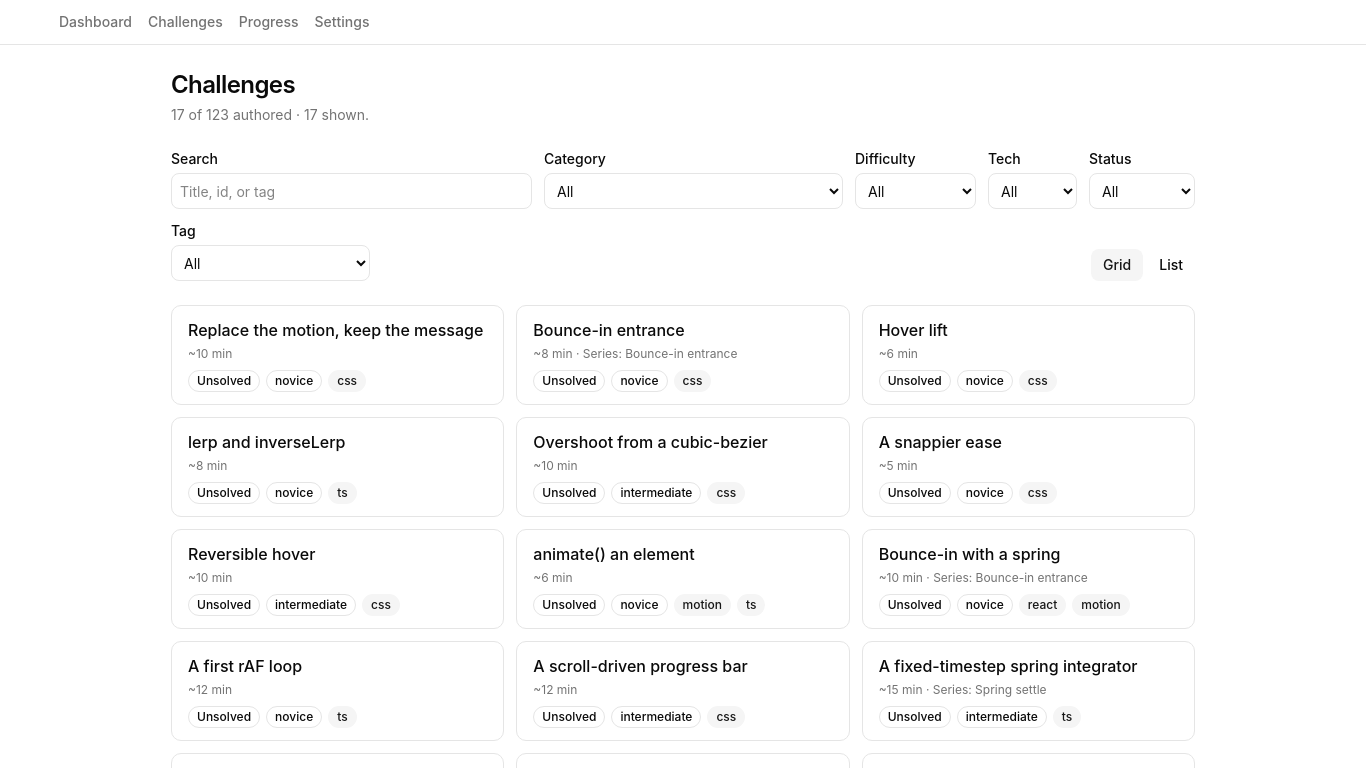
CatalogPage › changing a filter select updates the list and supports clearing
Expected: the link "Hover lift ~6 min Unsolved novice css" is shown, [862, 305, 1195, 405]
Select "expert" in the dropdown labelled "Difficulty". click: (916, 191)
box: [855, 173, 976, 209]
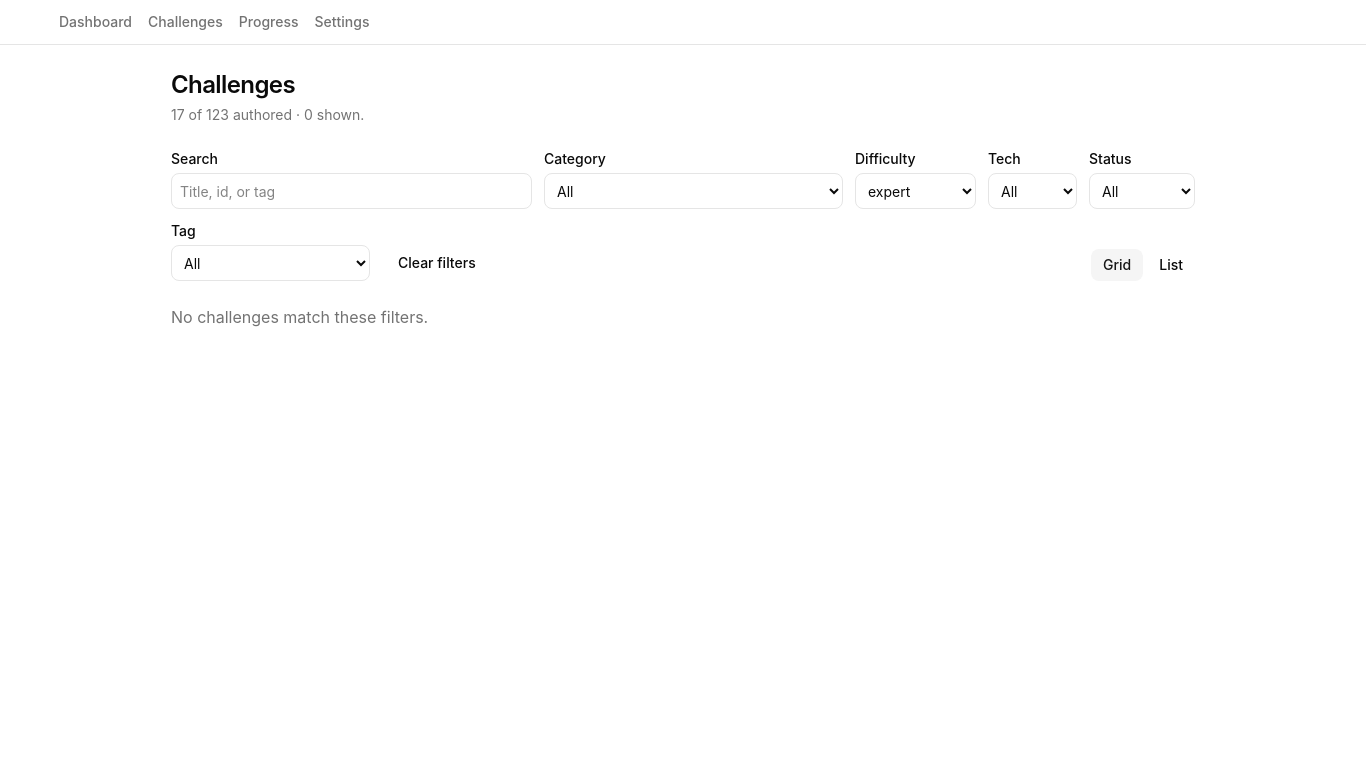
Now the link "Hover lift" is gone
Click the button "Clear filters". click: (437, 263)
box: [382, 245, 492, 281]
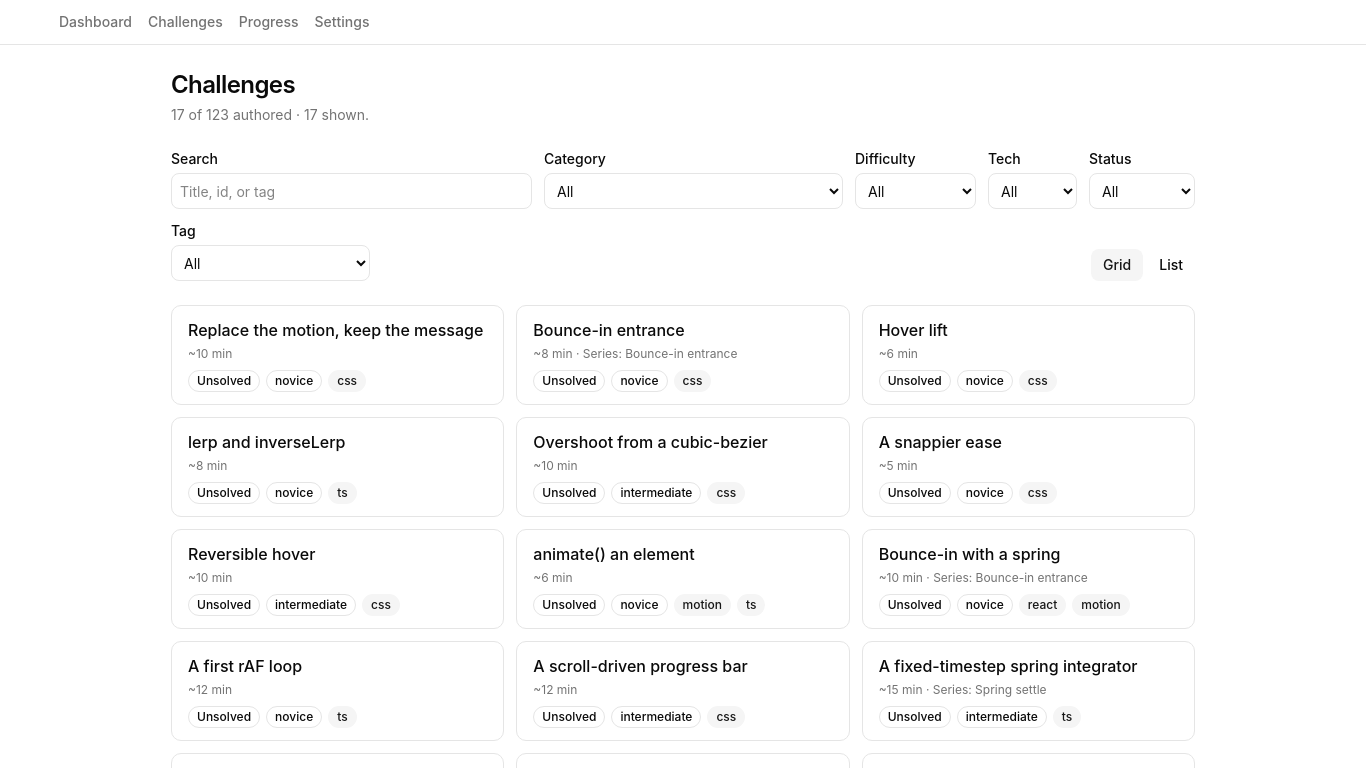
Now the link "Hover lift ~6 min Unsolved novice css" is shown, box [862, 305, 1195, 405]
